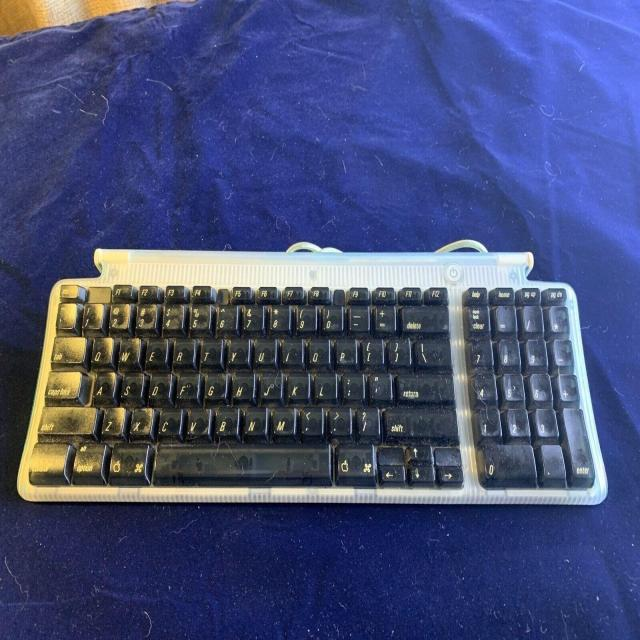keyboard: (15, 280, 609, 506)
